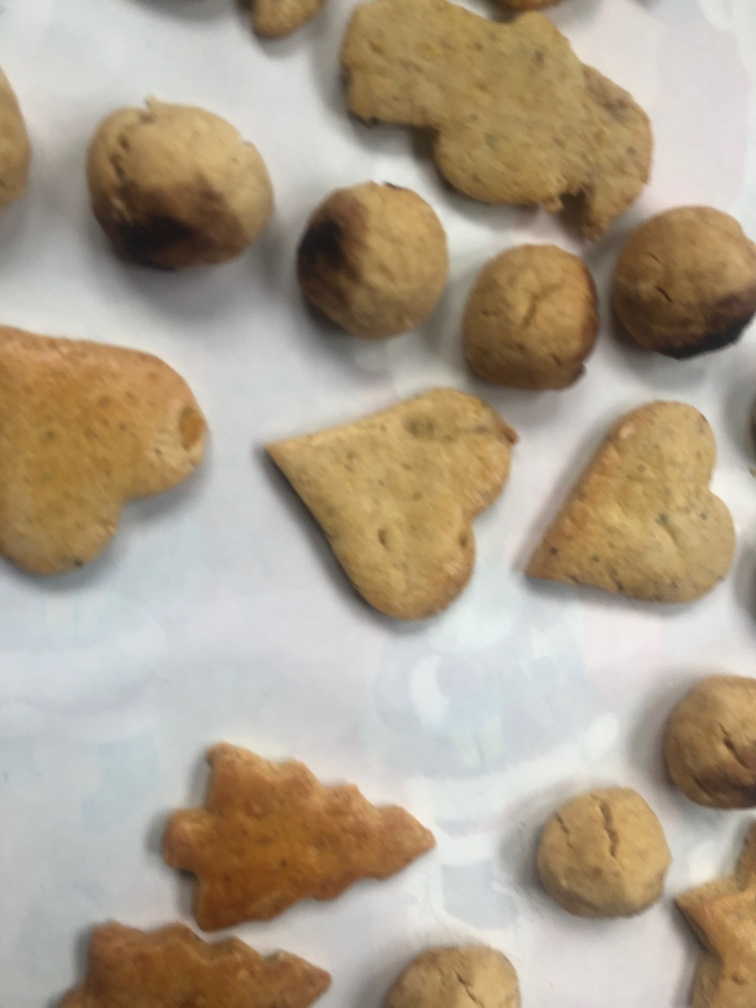christmas tree: (155, 733, 435, 932), (41, 916, 330, 1008)
heart: (250, 379, 519, 630), (2, 315, 218, 595), (523, 393, 741, 618)
santa claus: (336, 1, 664, 244)
snowball: (86, 95, 275, 280), (294, 177, 453, 360), (610, 198, 754, 366), (456, 239, 602, 401), (536, 782, 669, 921), (660, 667, 755, 814), (382, 938, 525, 1008)
star: (667, 810, 756, 1008)
